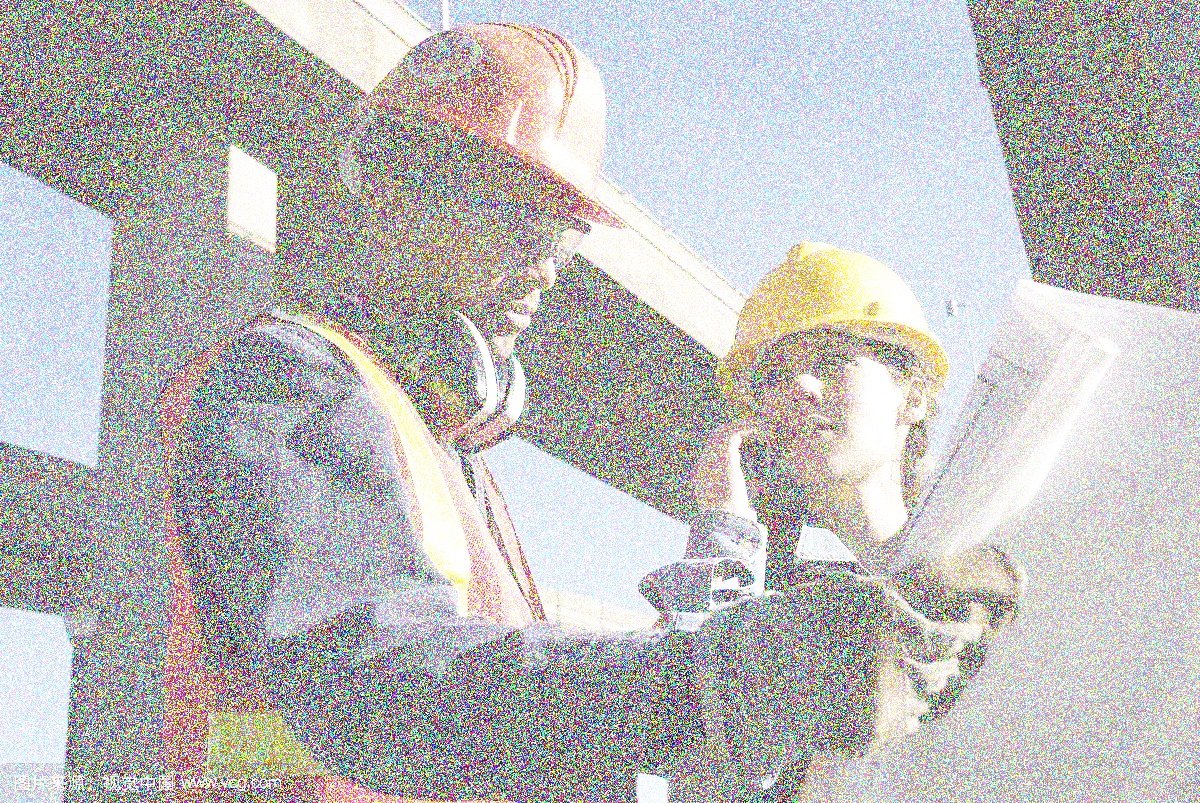helmet: (338, 19, 629, 376), (706, 234, 954, 490)
vest: (142, 319, 525, 803)
